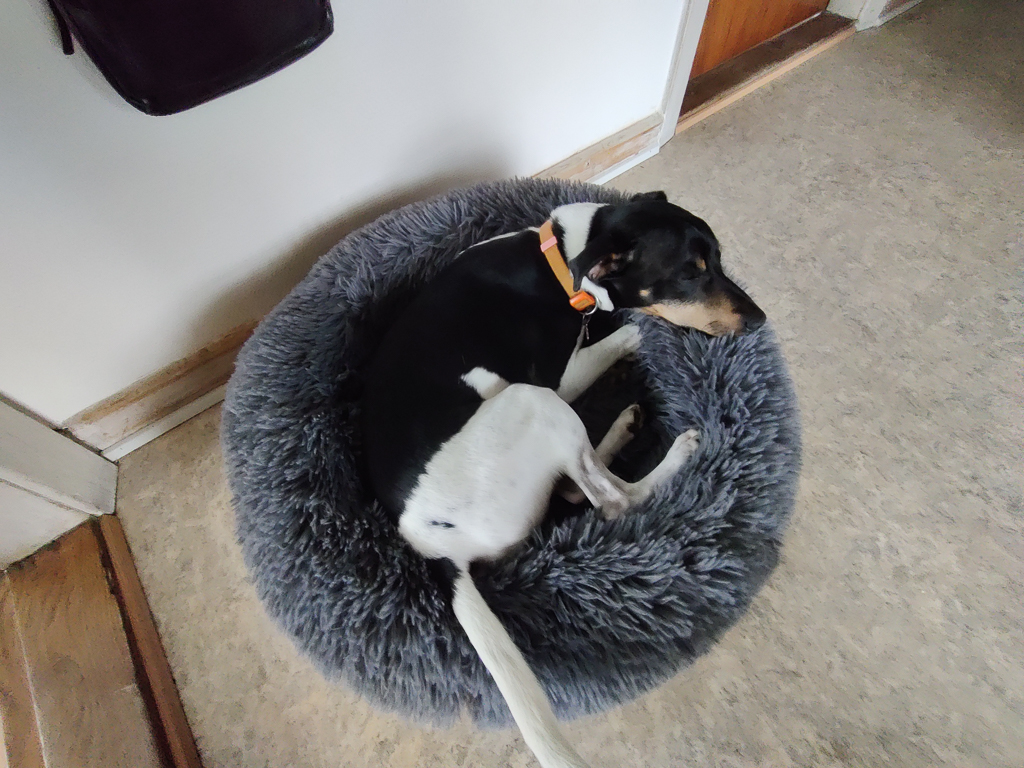Dog: (310, 178, 792, 768)
